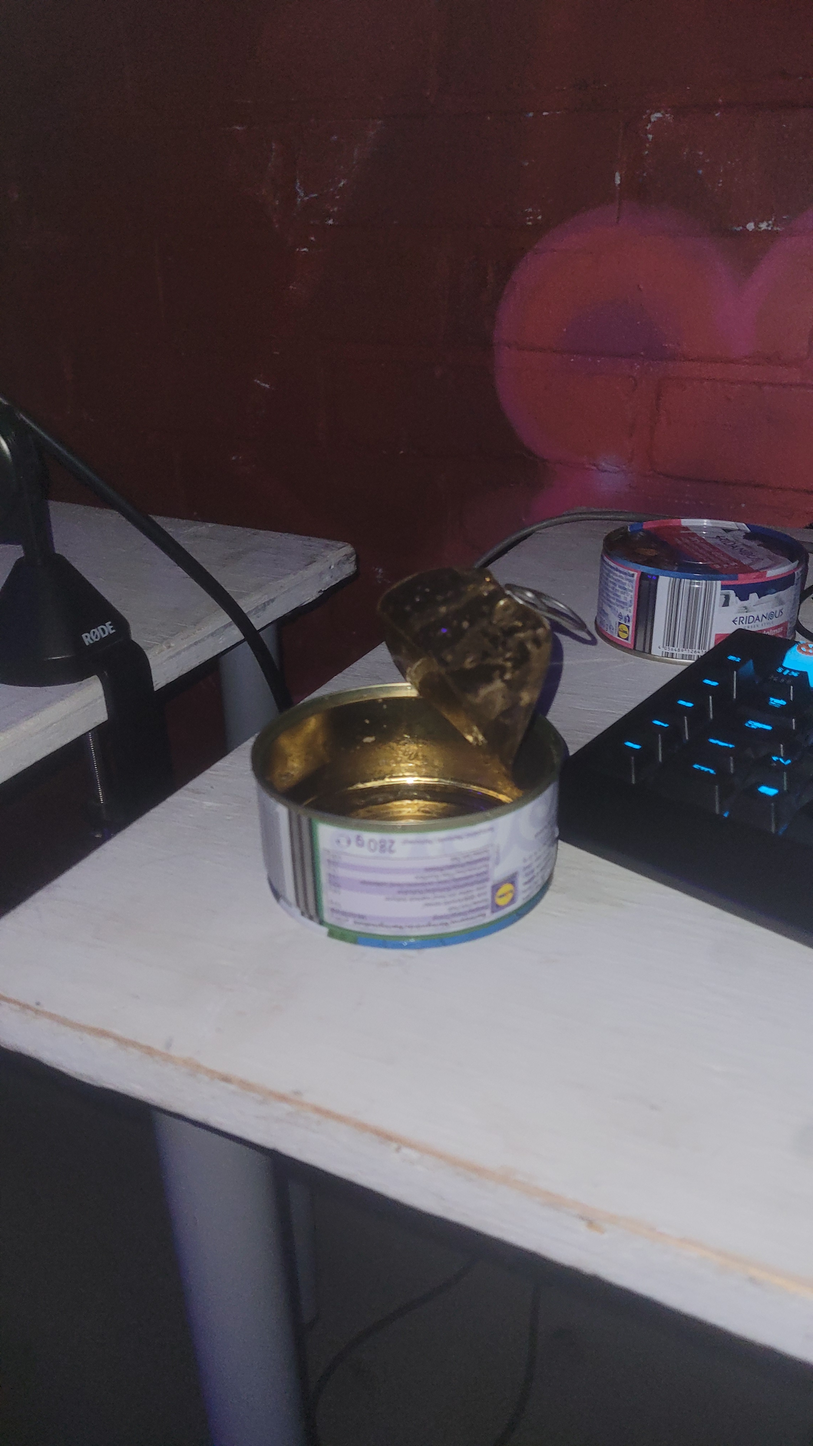Konservburk: (250, 563, 568, 949), (595, 518, 809, 664)
